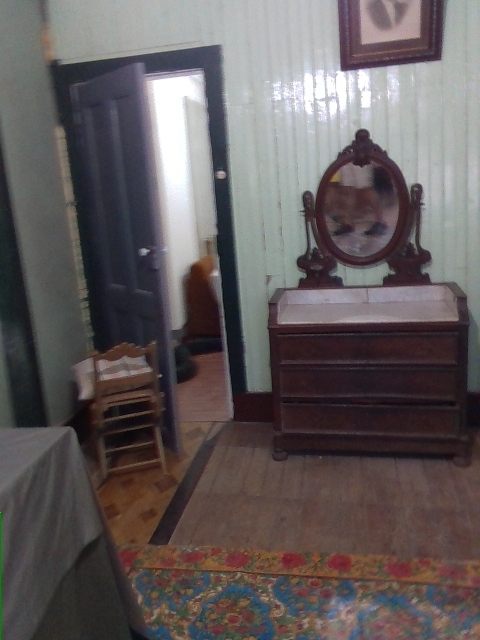semi: (45, 43, 251, 459)
